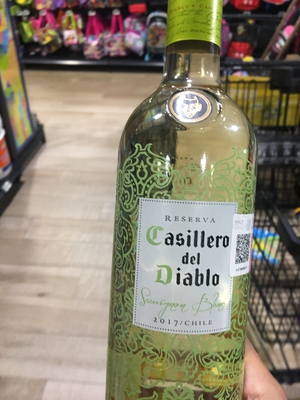casillero del diablo sauvignon blanc: (101, 14, 272, 400)
